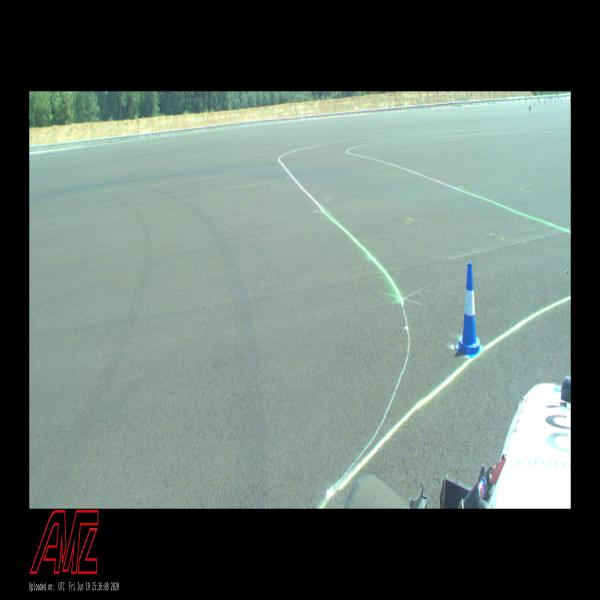blue_cone: (455, 262, 484, 358)
